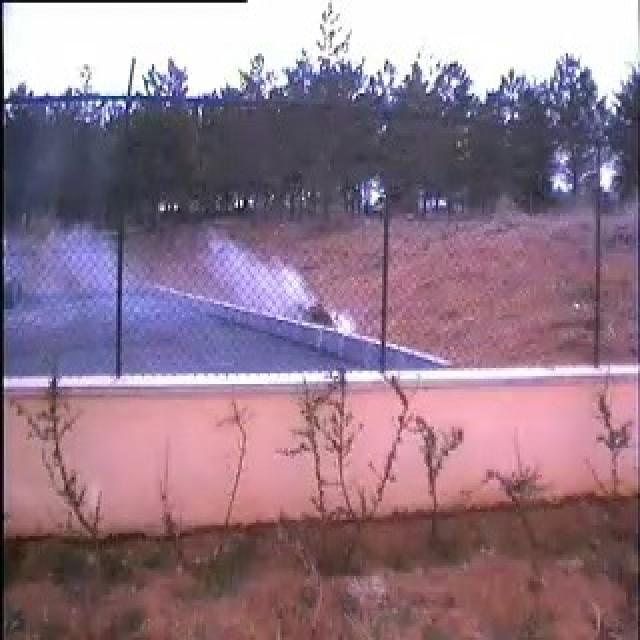smoke: (49, 206, 321, 369)
